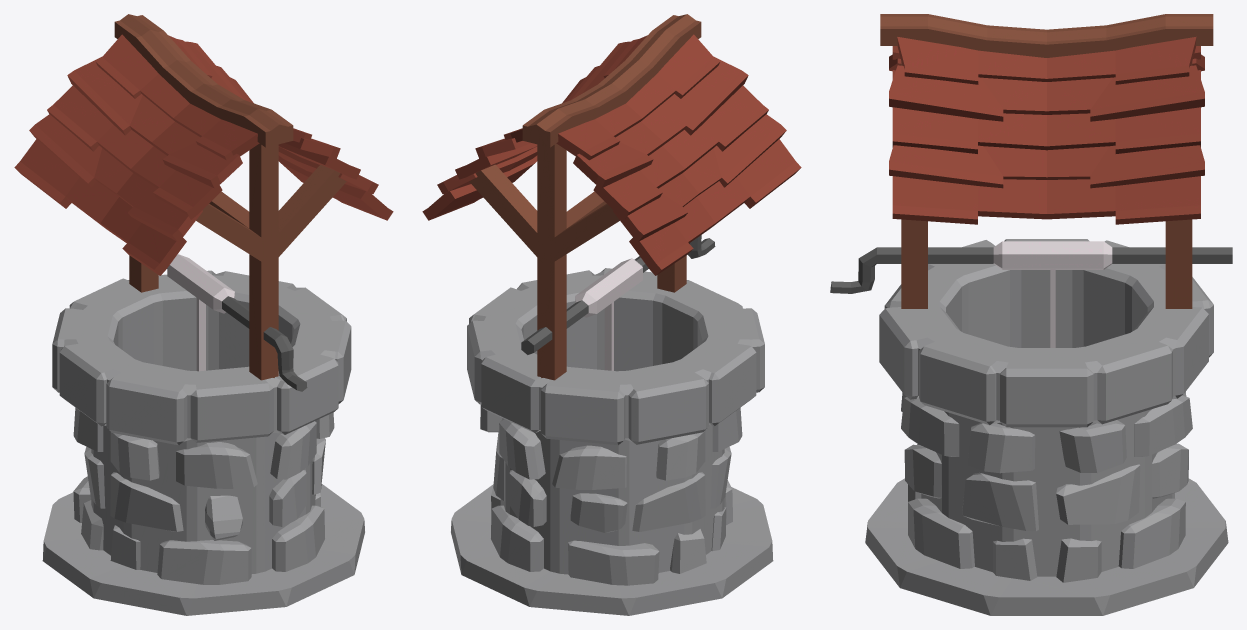
Rendered from well.glb.
The picture shows the model from 3 angles, left to right: view 1: azimuth 30°, elevation 25°; view 2: azimuth 150°, elevation 25°; view 3: azimuth 270°, elevation 25°; orthographic projection. The views are drawn at different scales.
Parts seen in each view (by area): view 1: Well_Cylinder.002; view 2: Well_Cylinder.002; view 3: Well_Cylinder.002.
Part boxes in pixels (<box>): Well_Cylinder.002: <box>14,14,393,615</box>; Well_Cylinder.002: <box>422,14,801,615</box>; Well_Cylinder.002: <box>830,14,1232,615</box>.
Size of the model in its own units: 1.28 by 2.15 by 1.49.
1 material, 1 textured.
